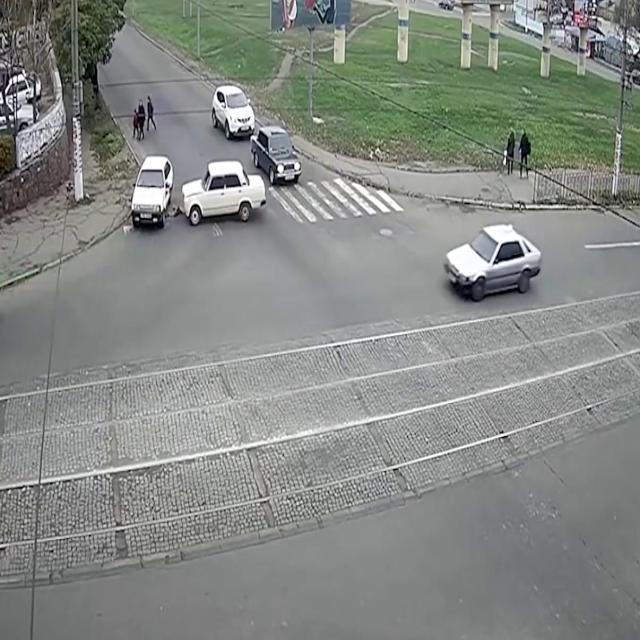accident: (126, 144, 270, 240)
